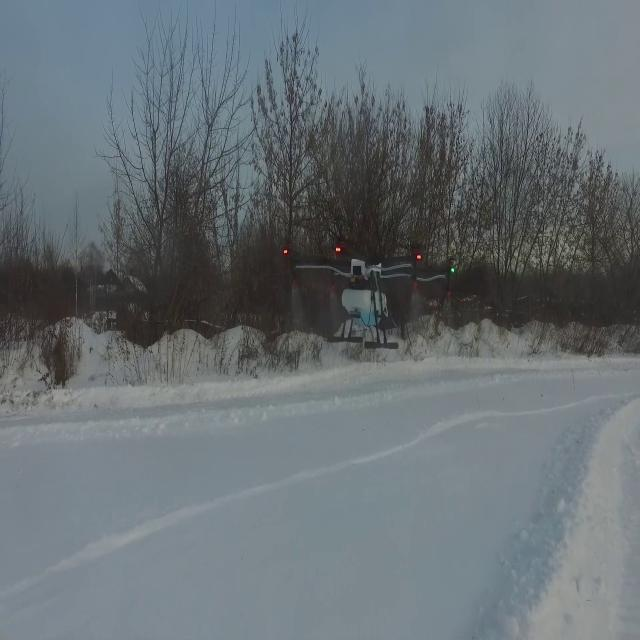Drons: (271, 238, 475, 358)
